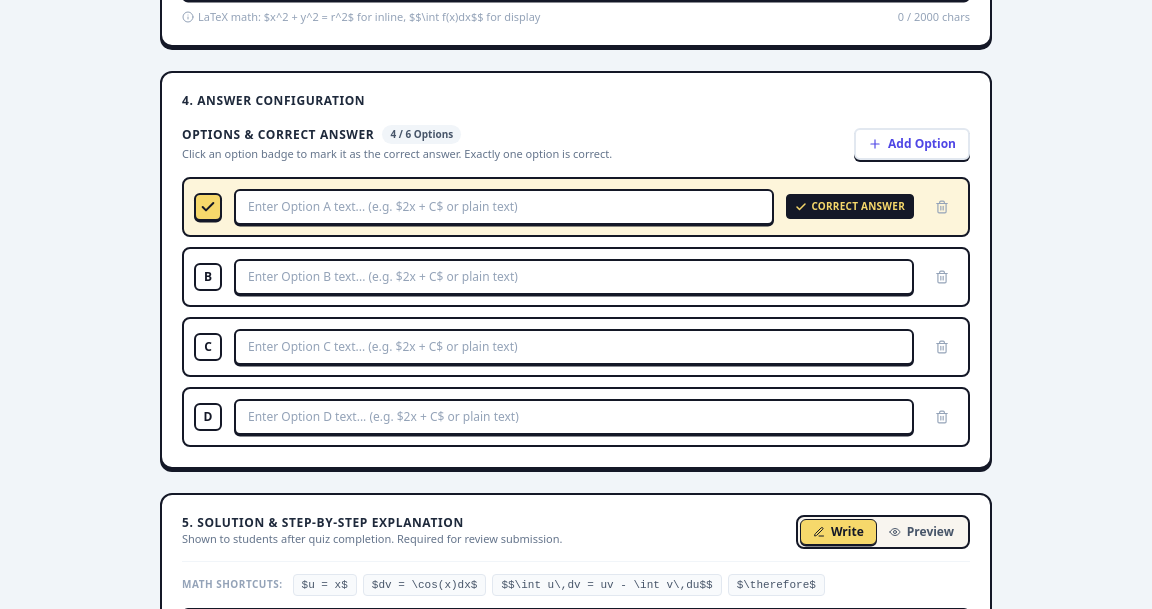
Scenario: CreateQuestionForm Component › allows clicking an option badge to set it as the correct option
The width and height of the screenshot is (1152, 609).
(page scrolled)
Expected: the button titled "Remove Option C" is shown, [926,330,958,362]
// Click Option B badge to mark it correct
Click the button titled "Click to set Option B as the correct answer" at point(208, 276), box [194,262,222,290]
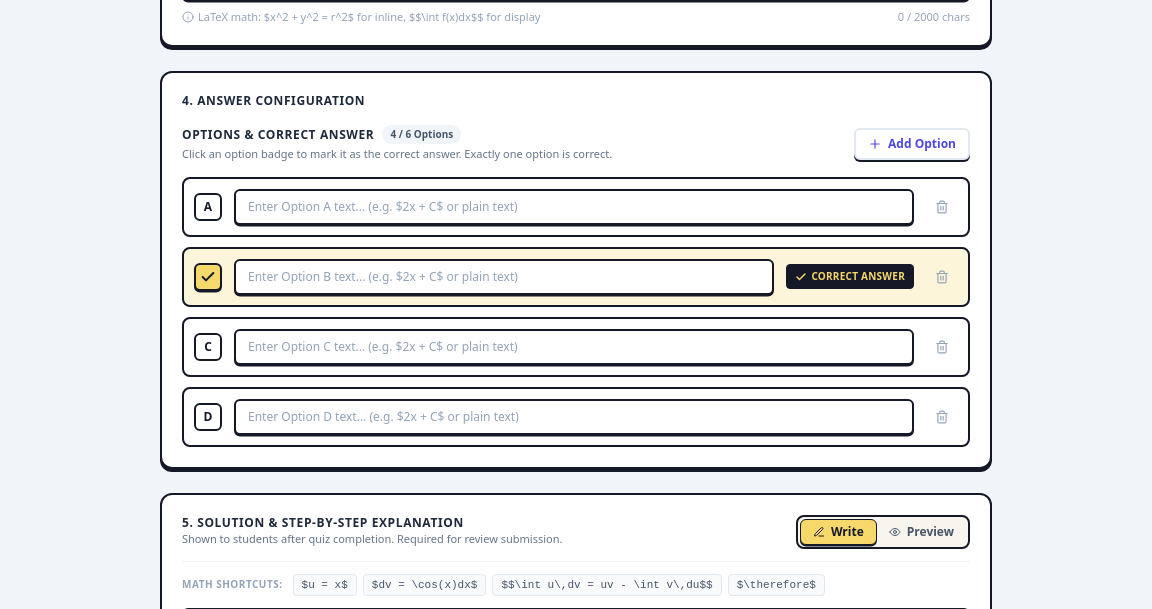
Expected: the text "Correct Answer" is shown, [811,269,905,284]
